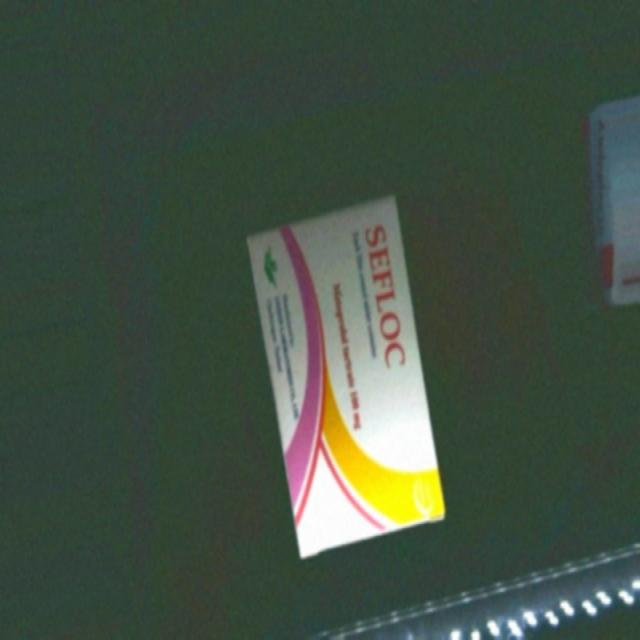sefloc: (244, 196, 448, 558)
